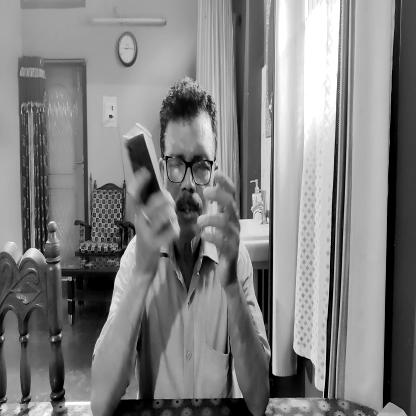Normal: (150, 77, 224, 276)
